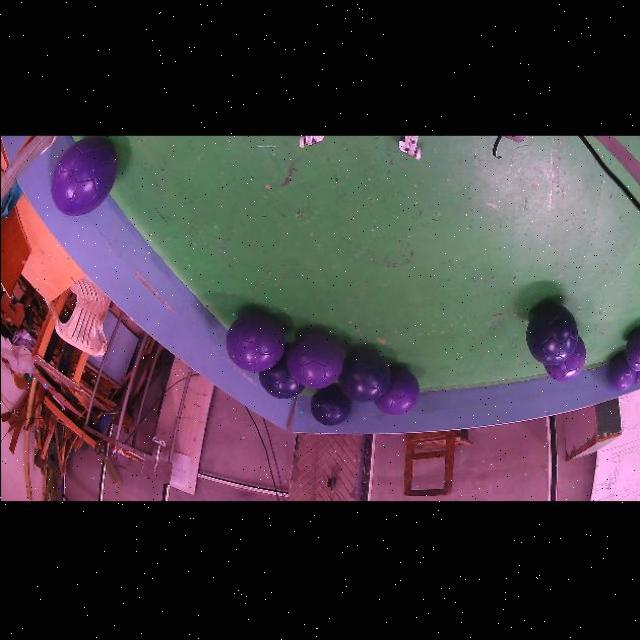B: (525, 304, 577, 365), (337, 350, 389, 402), (258, 344, 304, 398), (310, 386, 351, 426)
P: (50, 137, 116, 215), (225, 313, 283, 372), (285, 332, 343, 388), (374, 368, 418, 415), (544, 338, 586, 382), (607, 353, 635, 391), (624, 328, 640, 372), (634, 371, 640, 383)
